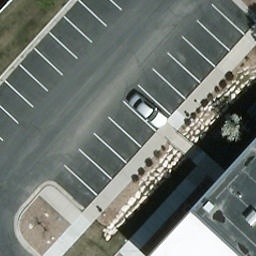car: (128, 92, 170, 130)
